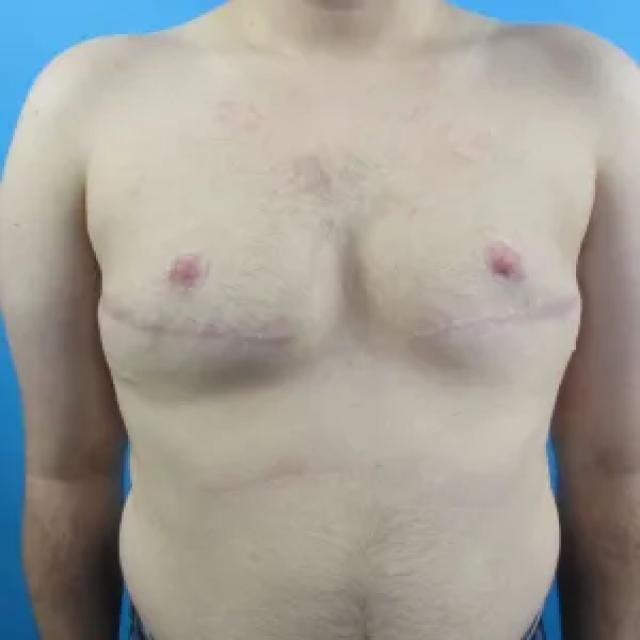Seno herido: (90, 227, 335, 390), (363, 224, 589, 389)
